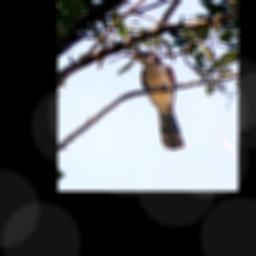Cuckoo: (123, 51, 187, 152)
